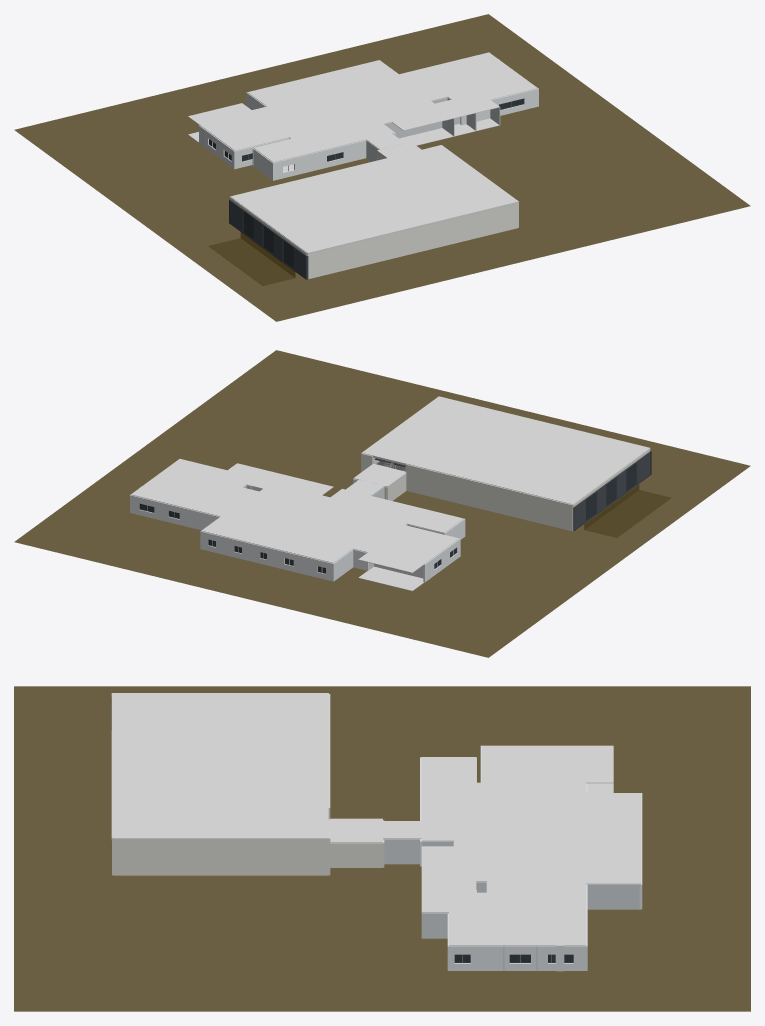
The model's file is base-map.glb.
3 renders of one model, top to bottom at view 1: azimuth 30°, elevation 25°; view 2: azimuth 150°, elevation 25°; view 3: azimuth 270°, elevation 25°, orthographic. The views are drawn at different scales.
Visible parts, largest first — view 1: Plane, CEILING_TILES_MERGED, processing-ceiling.001, chicken_processing_loading_dock, processing-bay-doors, FLOOR_TILES_MERGED, WALL_H_m12p00_m44p50_m25p50; view 2: Plane, CEILING_TILES_MERGED, processing-ceiling.001, chicken_processing_loading_dock, processing-bay-doors, FLOOR_TILES_MERGED, processing-ceiling, WALL_H_48p00_43p00_76p00; view 3: Plane, CEILING_TILES_MERGED, processing-ceiling.001, chicken_processing_loading_dock, processing-ceiling, WALL_V_52p00_48p00_68p00, WALL_V_105p00_6p00_20p00, WALL_V_13p00_m26p00_m12p00, WALL_V_77p00_m12p00_8p00.
Boxes of the visible parts, <box> form: Plane: <box>14,14,750,321</box>; CEILING_TILES_MERGED: <box>188,52,537,162</box>; processing-ceiling.001: <box>230,145,518,254</box>; chicken_processing_loading_dock: <box>209,146,518,285</box>; processing-bay-doors: <box>229,199,308,279</box>; FLOOR_TILES_MERGED: <box>188,118,499,171</box>; WALL_H_m12p00_m44p50_m25p50: <box>294,149,326,175</box>; Plane: <box>14,350,750,657</box>; CEILING_TILES_MERGED: <box>131,459,463,572</box>; processing-ceiling.001: <box>362,396,650,504</box>; chicken_processing_loading_dock: <box>353,449,670,537</box>; processing-bay-doors: <box>573,451,651,530</box>; FLOOR_TILES_MERGED: <box>358,566,424,591</box>; processing-ceiling: <box>353,464,406,487</box>; WALL_H_48p00_43p00_76p00: <box>179,507,219,530</box>; Plane: <box>14,686,750,1011</box>; CEILING_TILES_MERGED: <box>383,745,640,945</box>; processing-ceiling.001: <box>111,693,328,840</box>; chicken_processing_loading_dock: <box>112,693,384,875</box>; processing-ceiling: <box>328,818,382,843</box>; WALL_V_52p00_48p00_68p00: <box>587,884,640,909</box>; WALL_V_105p00_6p00_20p00: <box>471,945,509,970</box>; WALL_V_13p00_m26p00_m12p00: <box>384,839,419,864</box>; WALL_V_77p00_m12p00_8p00: <box>421,913,448,938</box>.
Size of what is drawn, in the model's own units: 85.52 by 5.78 by 81.88.
Materials: 38 (24 with a texture image).
